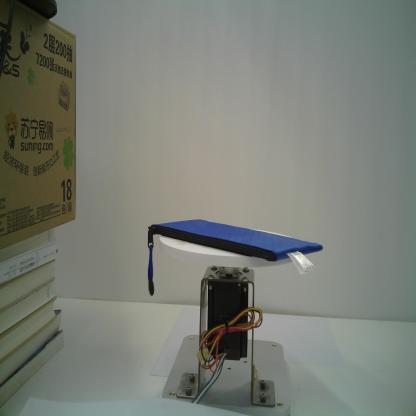Stationery: (143, 217, 324, 296)
